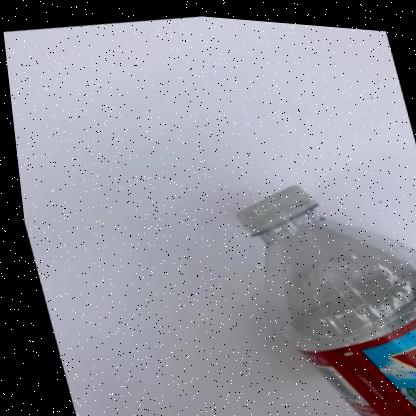Plastic: (232, 180, 416, 416)
